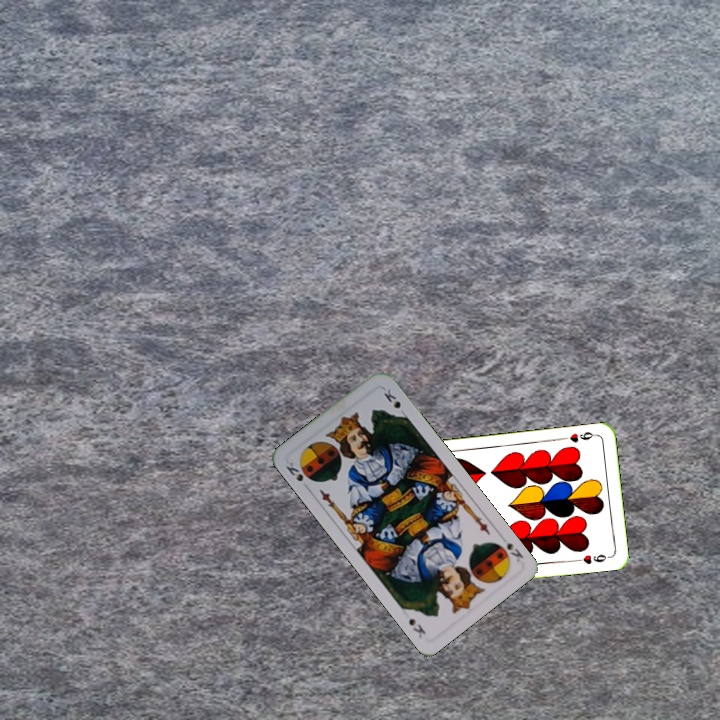H9: (559, 428, 599, 445)
SK: (282, 458, 312, 493), (496, 532, 526, 565)
